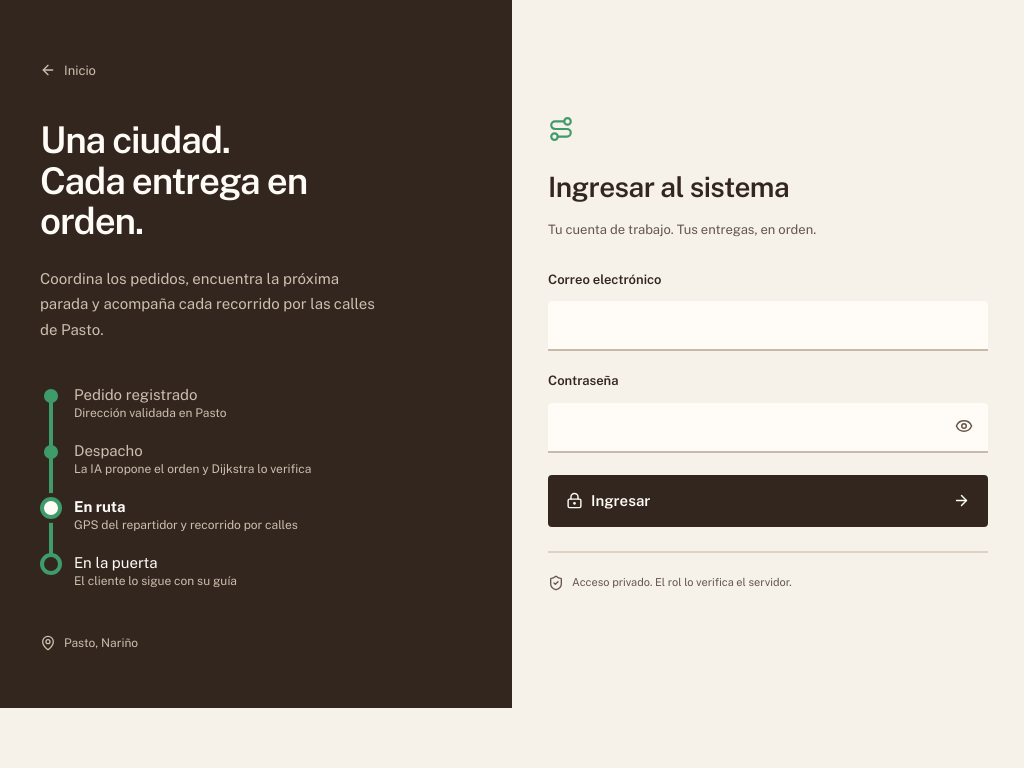
Test: acceso con correo y contraseña › muestra un error recuperable cuando el servidor devuelve texto en vez de JSON
Type "a@example.com" into the field labelled "Correo electrónico". click: [768, 326]
box: 548,301 -> 988,351
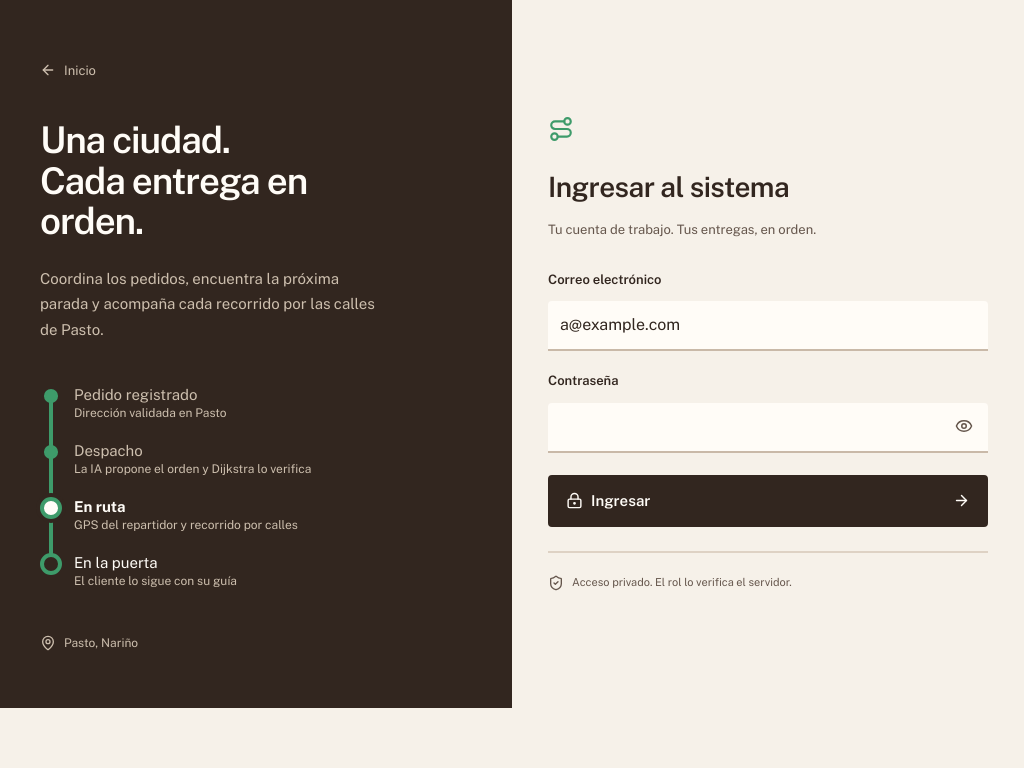
Type " contraseña privada " into the password field labelled "Contraseña". click: [768, 428]
box: 548,403 -> 988,453
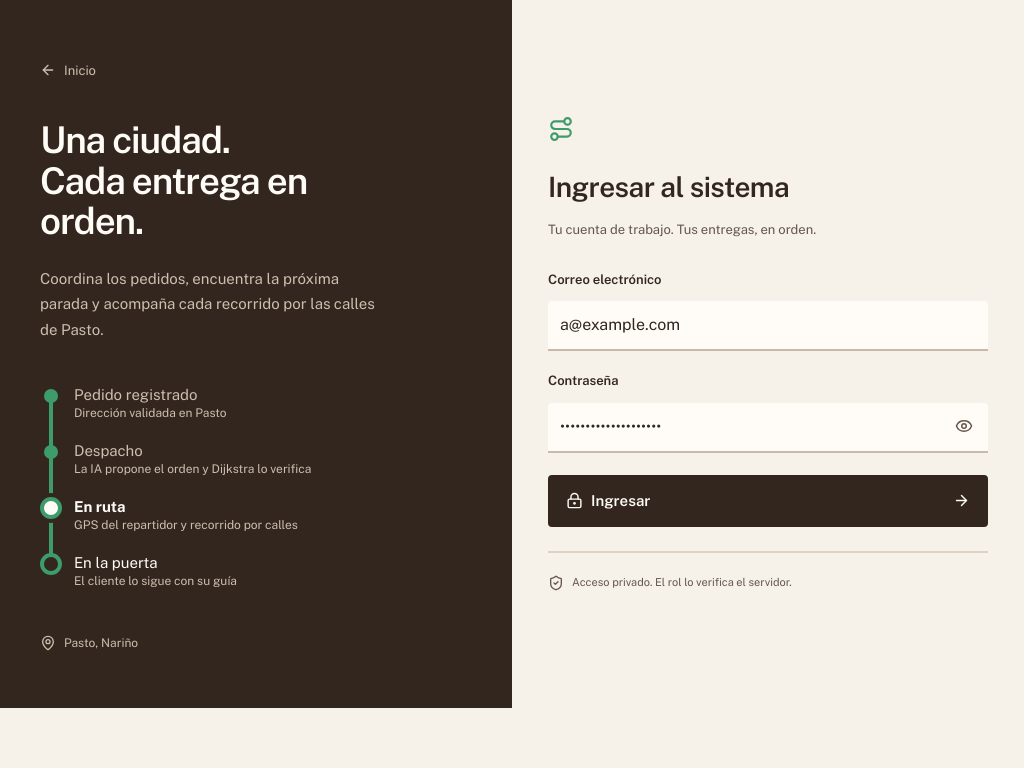
Click the button "Ingresar". click: [621, 501]
box: 548,475 -> 988,527
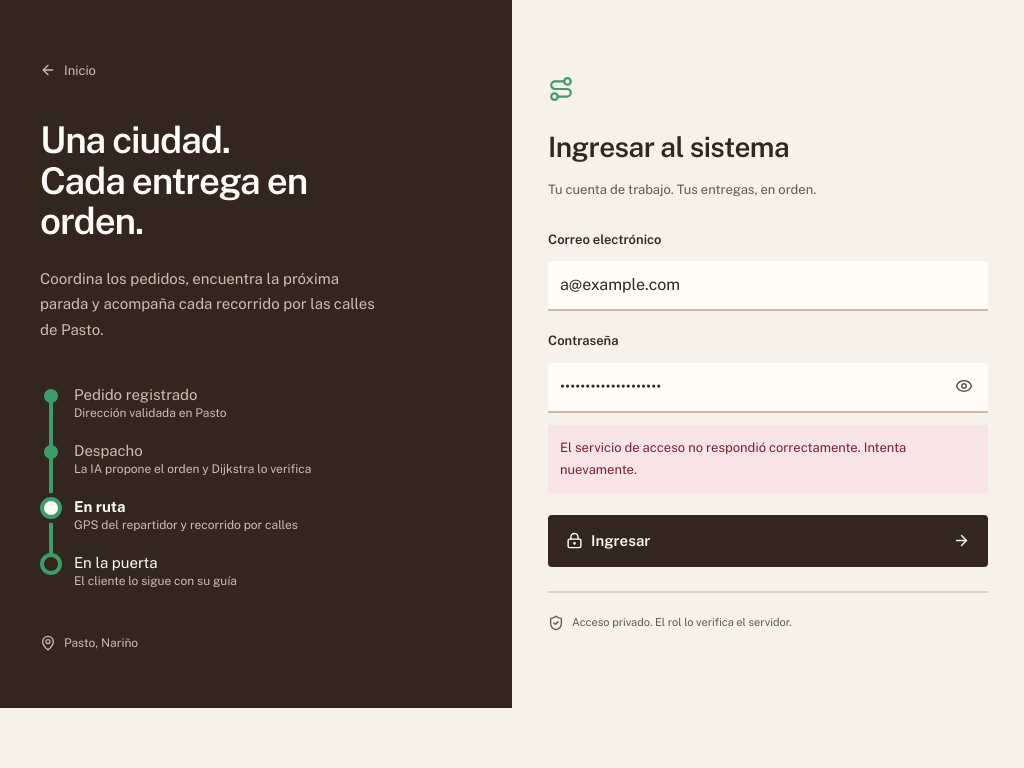
Expected: the button "Ingresar" is enabled, 548,515 -> 988,567
Expected: the message shows "El servicio de acceso no respondió", 560,440 -> 906,477
